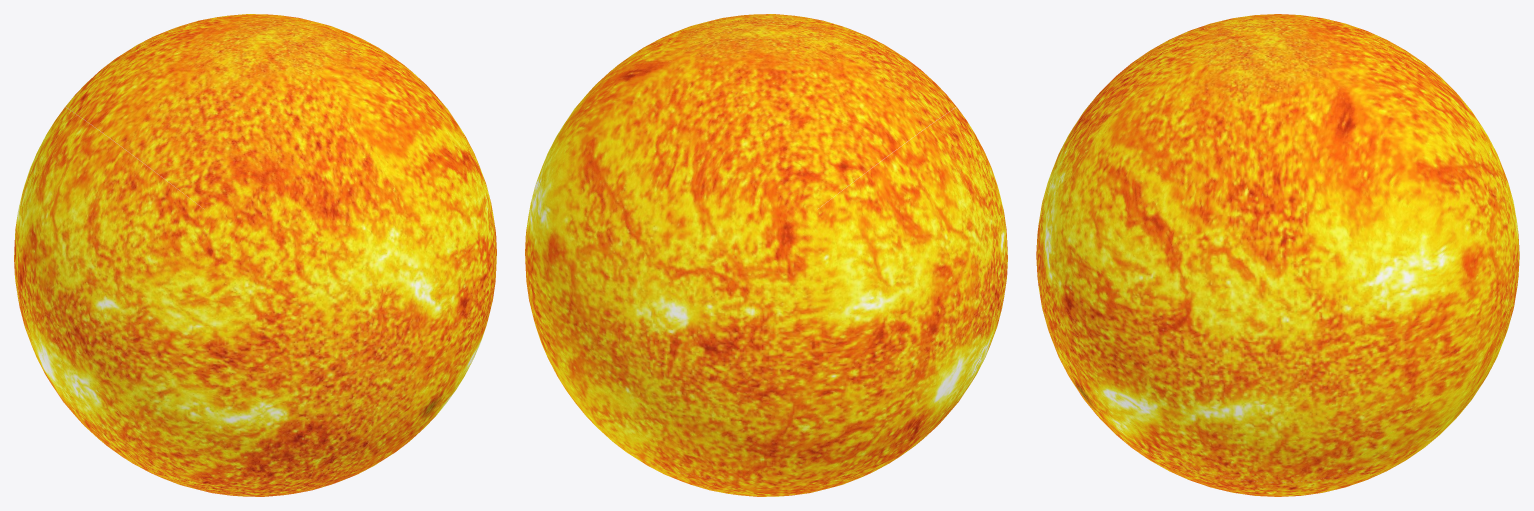
Rendered from sun.glb.
3 renders of one model, left to right at view 1: azimuth 30°, elevation 25°; view 2: azimuth 150°, elevation 25°; view 3: azimuth 270°, elevation 25°, orthographic.
Parts seen in each view (by area): view 1: Cube_002; view 2: Cube_002; view 3: Cube_002.
Boxes of the visible parts, x1,y1,x2,y2 form: Cube_002: [14, 14, 496, 496]; Cube_002: [525, 14, 1007, 496]; Cube_002: [1036, 14, 1519, 496].
Size of the model in its own units: 3 by 3 by 3.
1 material, 1 textured.
